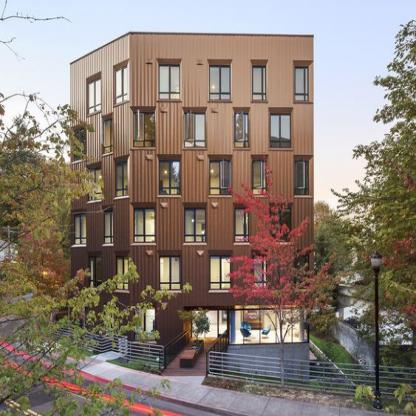Building Outline: (69, 32, 315, 354)
Door: (192, 311, 217, 338)
Facade: (129, 31, 314, 354)
Glass Wall: (229, 309, 308, 344)
Window: (184, 111, 205, 147), (184, 207, 205, 243), (134, 207, 155, 243), (209, 65, 231, 99), (209, 161, 231, 195), (159, 64, 180, 99), (134, 112, 155, 147), (288, 255, 309, 290), (159, 161, 180, 195), (160, 255, 180, 290), (210, 255, 230, 290), (272, 207, 291, 243), (271, 113, 291, 147), (135, 307, 155, 340), (295, 66, 309, 100), (295, 161, 309, 195), (235, 112, 248, 147), (253, 255, 266, 290), (253, 65, 266, 99), (253, 161, 266, 195), (236, 207, 248, 243), (219, 310, 227, 334)
